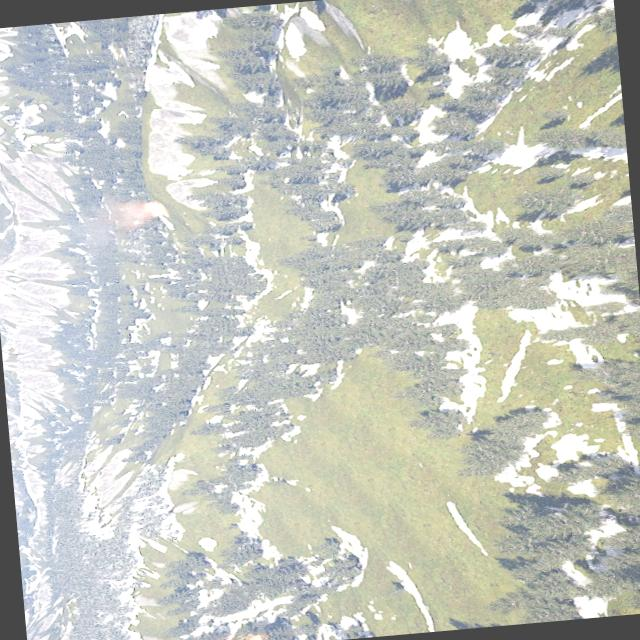fire: (140, 200, 162, 218), (242, 632, 263, 640)
smoke: (90, 199, 144, 235)
